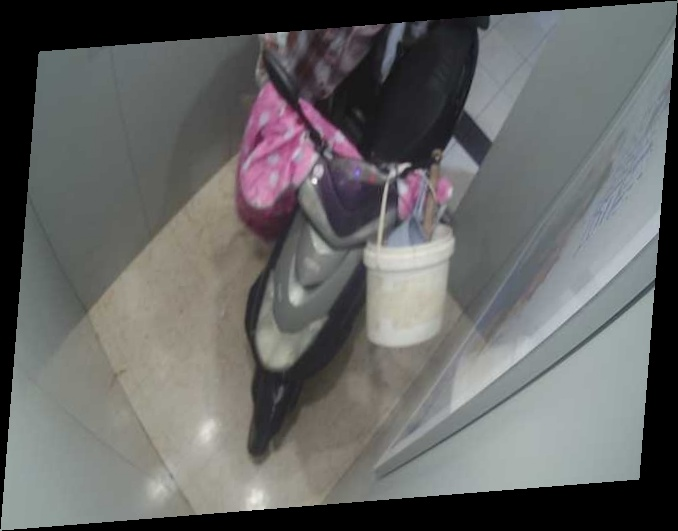bucket: (344, 184, 477, 357)
electromobile: (210, 23, 472, 463)
